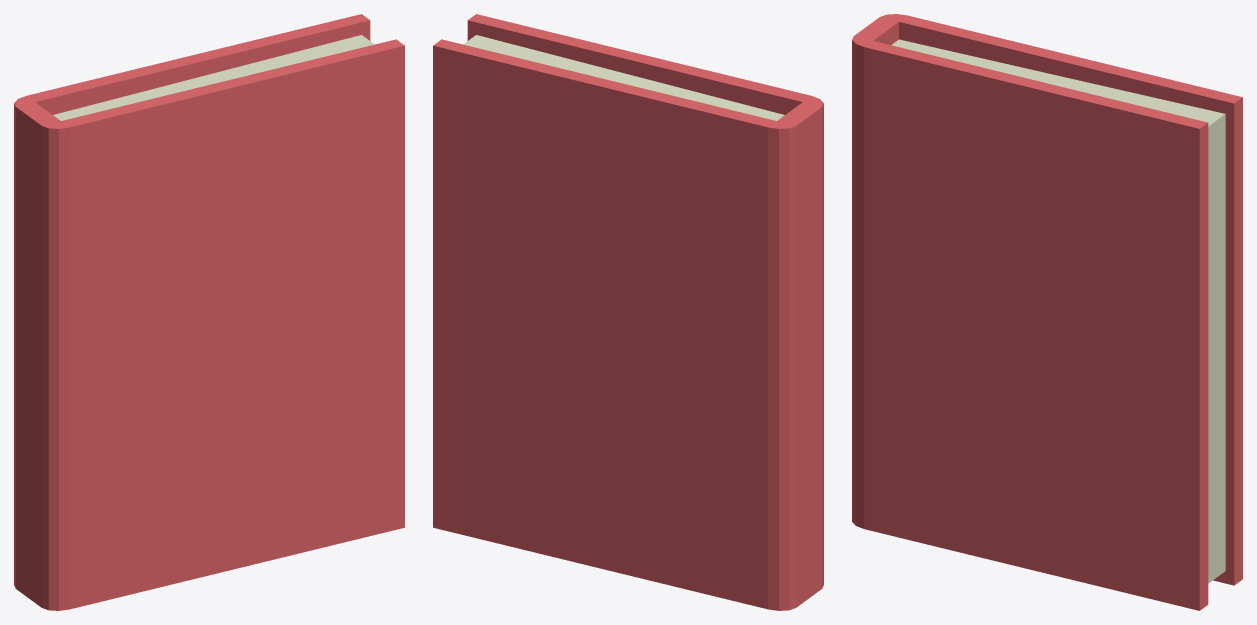
File: book.fbx
3 views of the same model, side by side, from view 1: azimuth 30°, elevation 25°; view 2: azimuth 150°, elevation 25°; view 3: azimuth 330°, elevation 25° (orthographic).
Visible parts, largest first — view 1: Cube; view 2: Cube; view 3: Cube.
Part boxes in pixels (box(x1,y1,x2,y2)): Cube: box(14, 14, 404, 610); Cube: box(433, 14, 823, 610); Cube: box(852, 14, 1242, 610).
Size of the model in its own units: 12.46 by 16.2 by 2.63.
